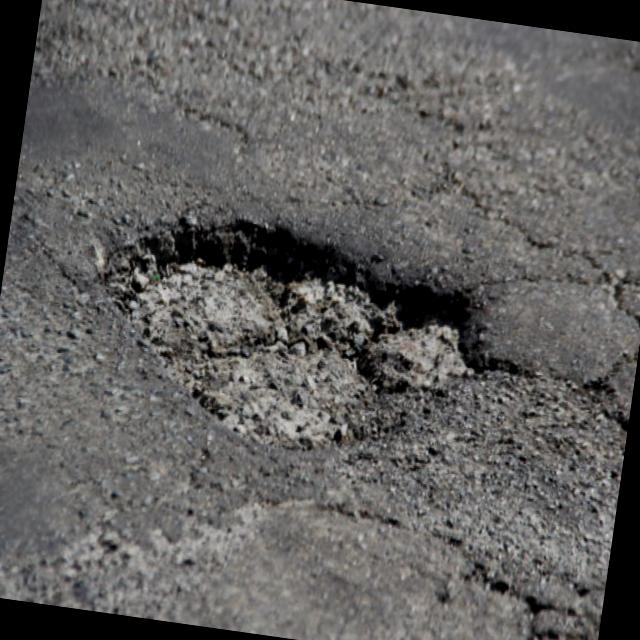bad-road: (82, 198, 504, 471)
